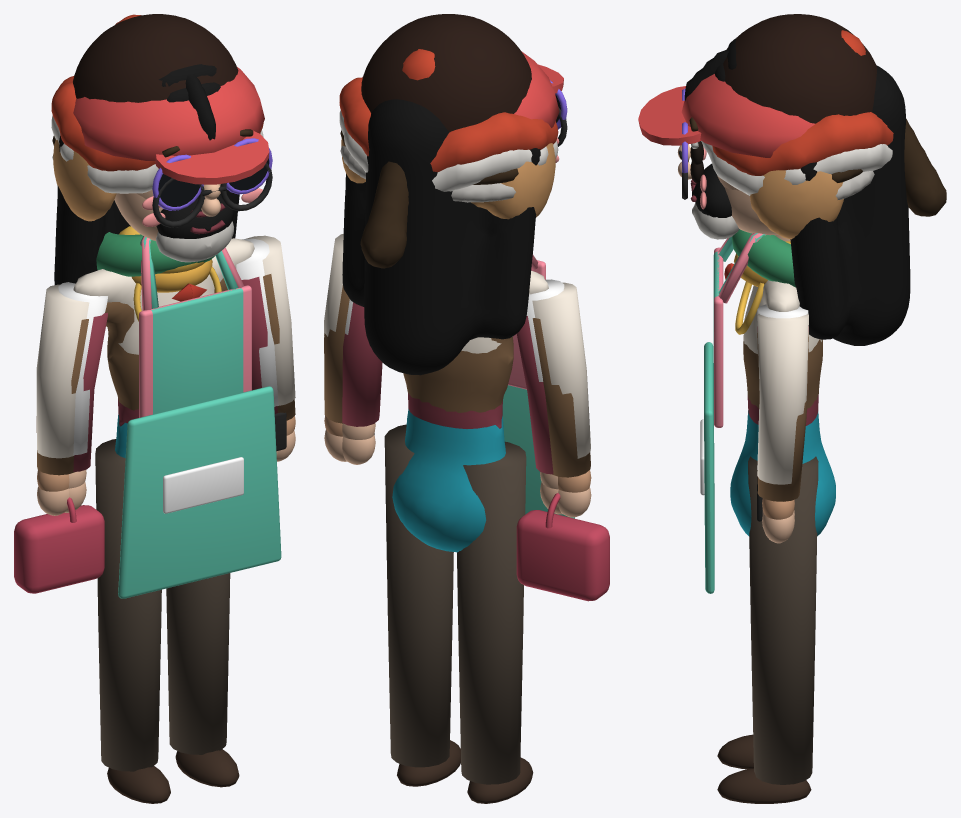
Rendered from people.glb.
The picture shows the model from 3 angles, left to right: view 1: azimuth 30°, elevation 25°; view 2: azimuth 150°, elevation 25°; view 3: azimuth 270°, elevation 25°; orthographic projection. The views are drawn at different scales.
Parts seen in each view (by area): view 1: ApronSkirt, PantsL.004, PantsR.004, Hair.018, Cap, ApronBib, Bag, SleeveL.015, Hair.009, Visor, Torso.015, ApronPocket (+28 smaller); view 2: Hair.009, PantsL.004, PantsR.004, Hair.018, Torso.011, Bag, Hair.019, Torso.004, SleeveL.015, SleeveR, Hair.014, SleeveL.004 (+18 smaller); view 3: Hair.009, PantsR.004, Hair.018, SleeveR.015, Cap, Hair.019, Hair.016, Torso.011, Hair.001, ApronSkirt, Hair.014, Visor (+16 smaller).
Part boxes in pixels (x1,y1,x2,y2): ApronSkirt: (118, 386, 281, 598); PantsL.004: (95, 439, 161, 771); PantsR.004: (166, 573, 230, 754); Hair.018: (73, 14, 238, 102); Cap: (73, 67, 264, 160); ApronBib: (151, 288, 243, 414); Bag: (14, 505, 104, 593); SleeveL.015: (36, 284, 89, 458); Hair.009: (54, 136, 239, 284); Visor: (155, 130, 269, 184); Torso.015: (73, 238, 254, 354); ApronPocket: (163, 457, 243, 513); Hair.009: (342, 99, 540, 375); PantsL.004: (457, 441, 526, 784); PantsR.004: (384, 424, 453, 767); Hair.018: (361, 14, 531, 132); Torso.011: (392, 409, 505, 552); Bag: (516, 510, 609, 601); Hair.019: (339, 77, 558, 172); Torso.004: (403, 336, 513, 412); SleeveL.015: (532, 282, 590, 458); SleeveR: (342, 302, 382, 426); Hair.014: (360, 161, 408, 268); SleeveL.004: (532, 318, 590, 477); Hair.009: (790, 65, 910, 345); PantsR.004: (748, 456, 818, 784); Hair.018: (723, 14, 876, 123); SleeveR.015: (757, 313, 808, 484); Cap: (681, 74, 814, 157); Hair.019: (712, 112, 893, 175); Hair.016: (750, 170, 843, 239); Torso.011: (730, 410, 835, 536); Hair.001: (701, 141, 892, 195); ApronSkirt: (704, 342, 714, 593); Hair.014: (904, 118, 946, 216); Visor: (638, 86, 701, 145).
Bounding box in the file's own units: 0.6769 × 1.77 × 0.6556.
